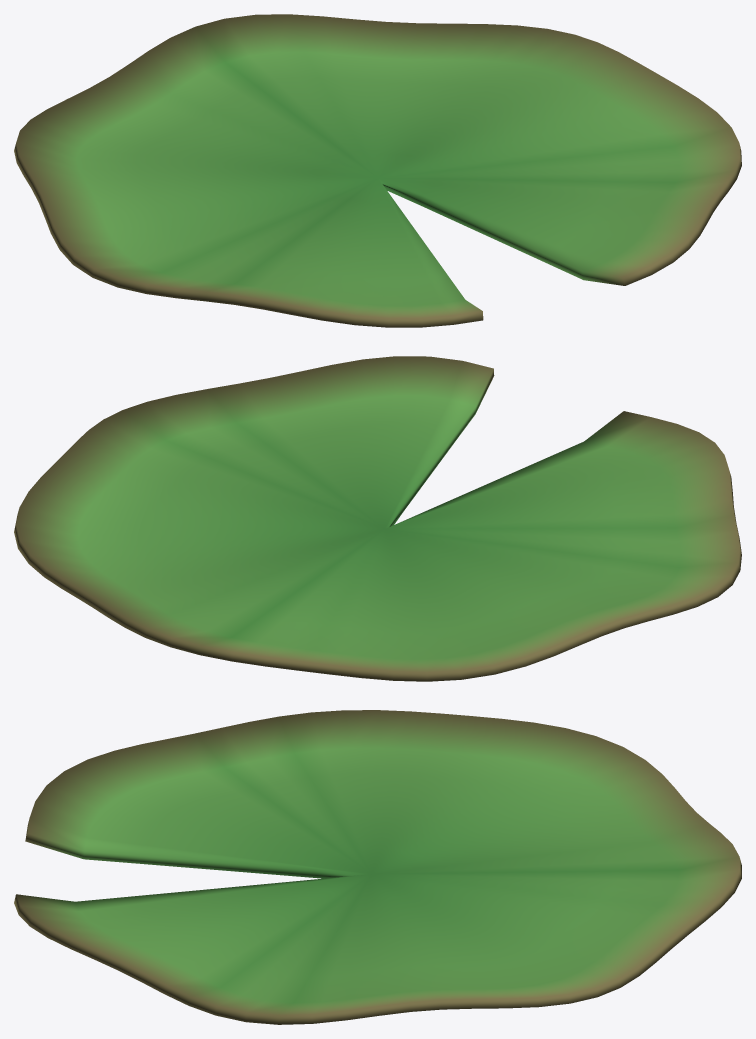
Rendered from LilyPad.fbx.
The picture shows the model from 3 angles, top to bottom: view 1: azimuth 30°, elevation 25°; view 2: azimuth 150°, elevation 25°; view 3: azimuth 270°, elevation 25°; orthographic projection.
Parts seen in each view (by area): view 1: LilyPad; view 2: LilyPad; view 3: LilyPad.
Boxes of the visible parts, x1,y1,x2,y2 form: LilyPad: (14,14,741,327); LilyPad: (14,356,741,681); LilyPad: (14,710,741,1024).
Size of the model in its own units: 6.12 by 0.2917 by 6.09.
